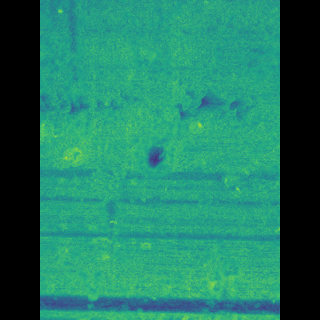Loch: (70, 0, 251, 141), (68, 0, 115, 171), (86, 168, 132, 313), (186, 240, 221, 320), (140, 117, 177, 184)
